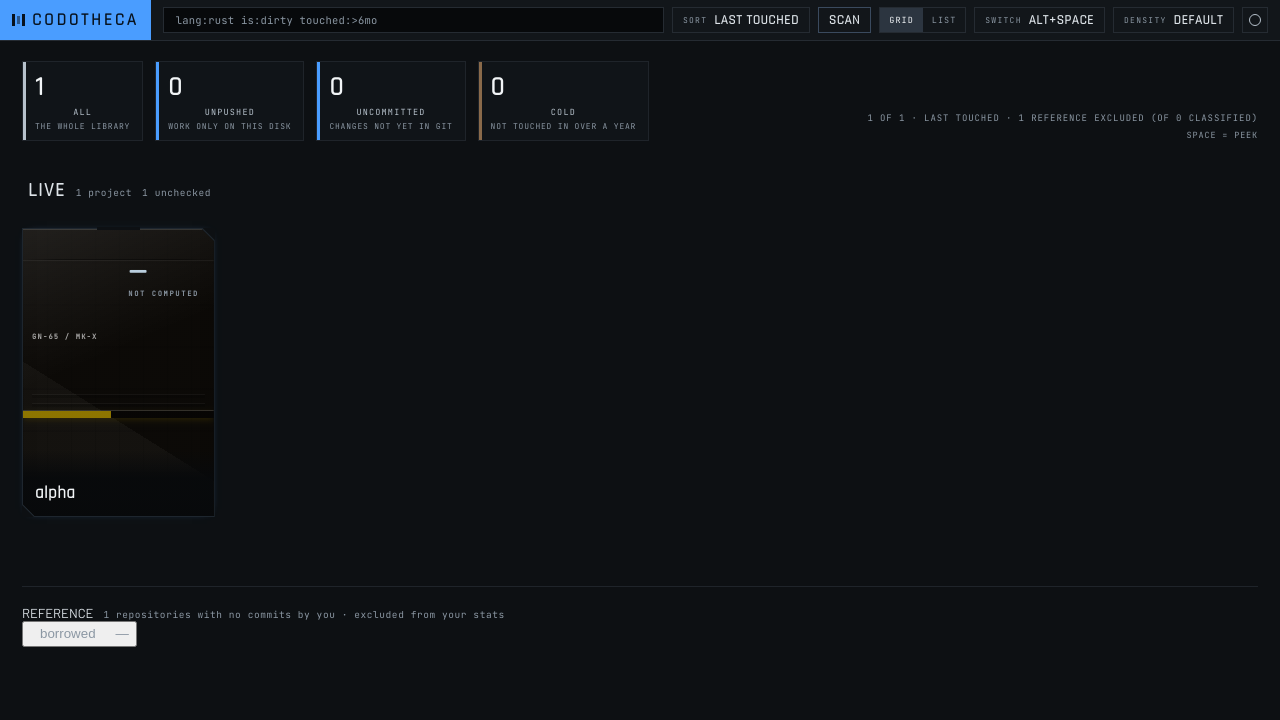
Scenario: App — the composition root › opens the project page and takes the shelf off the screen
The image size is (1280, 720).
Click the button with class "cdt-reference-row".
click(79, 634)  # box x1=22 y1=620 x2=137 y2=646
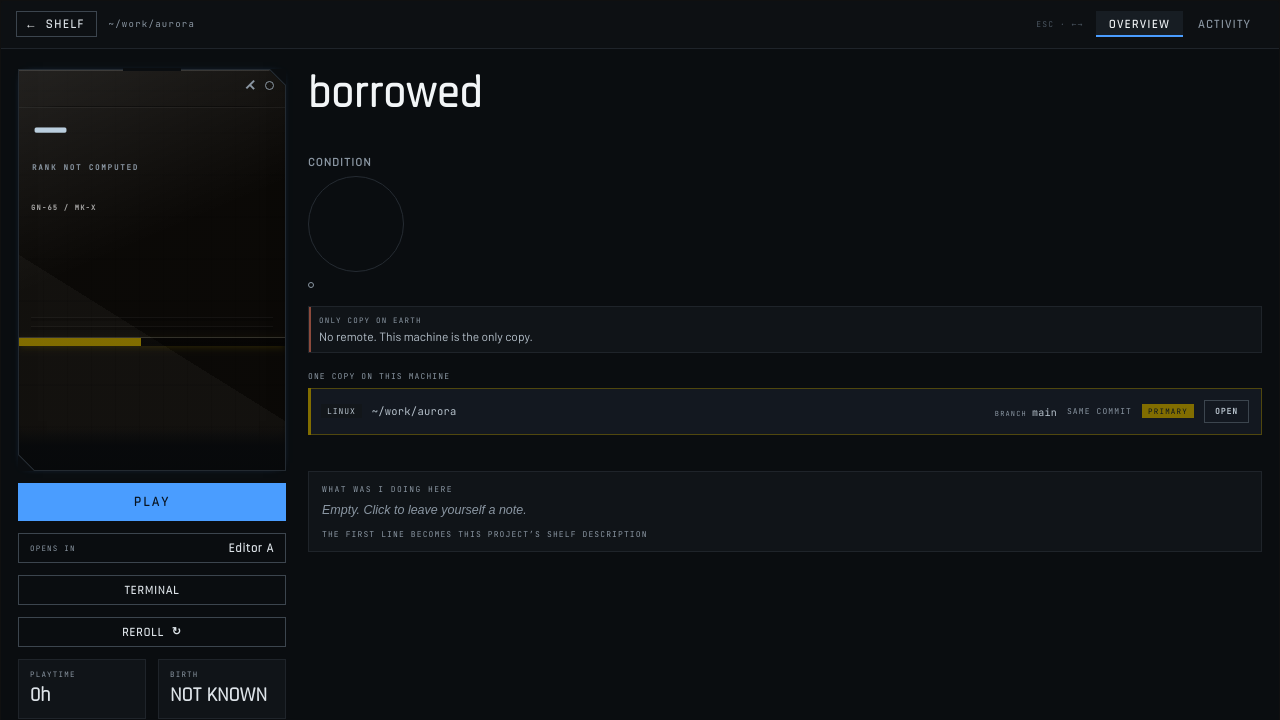
Check: the element with class "cdt-shelf" is gone
